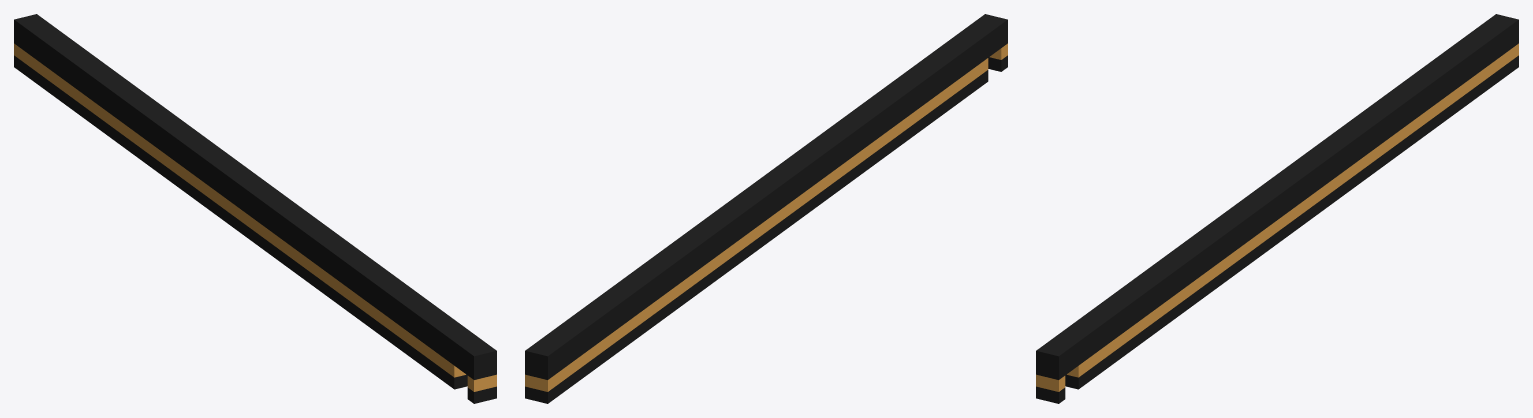
Rendered from CarGateBar.obj.
3 views of the same model, side by side, from view 1: azimuth 30°, elevation 25°; view 2: azimuth 150°, elevation 25°; view 3: azimuth 330°, elevation 25° (orthographic).
Bounding box in the file's own units: 0.2 × 0.4 × 7.
Materials: 1 (1 with a texture image).
